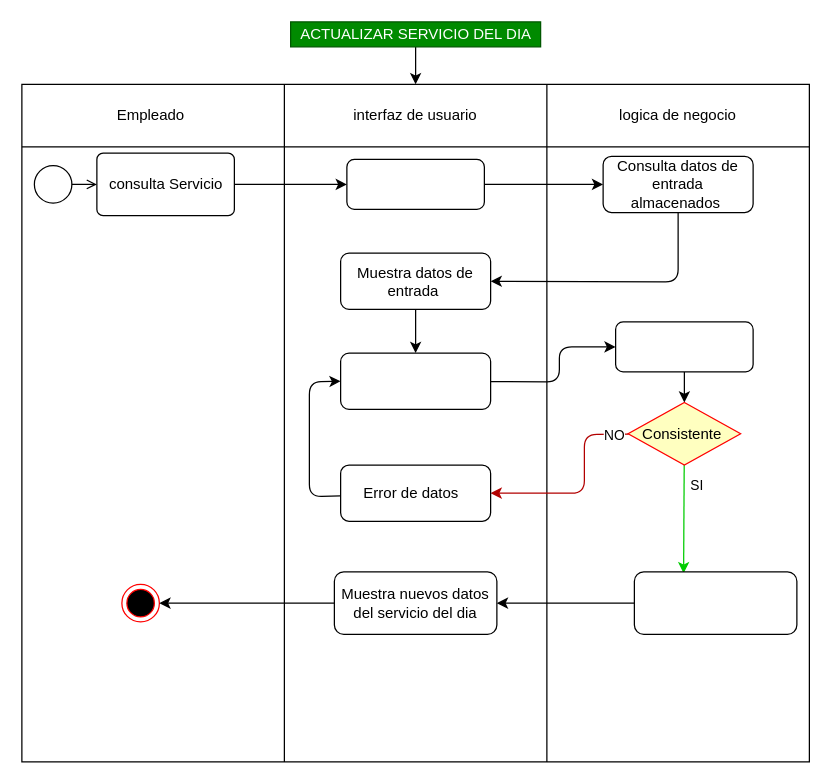
The diagram is 831 pixels wide and 784 high, and some of its shapes have lost their labels. Each missing label, with the centre of its shape:
"Almacena datos modificados" belongs at (715,602).
"Autenticacion del servicio" belongs at (415,183).
"Modifica datos de entrada" belongs at (415,380).
"Valida datos de entrada" belongs at (683,346).
